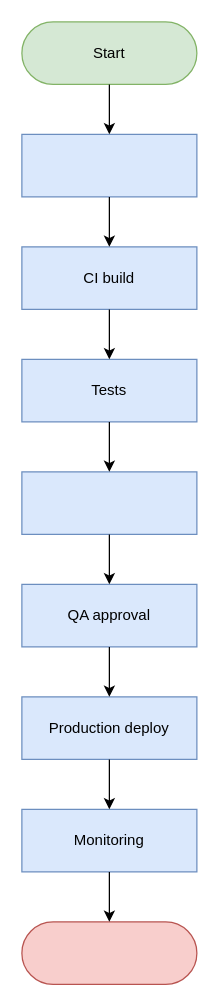
This 219x1006 diagram has some shape labels left out. Each missing label, with the centre of its shape:
Developer pushes code: the point at 109,165
Staging deploy: the point at 109,502
Stop: the point at 109,952
